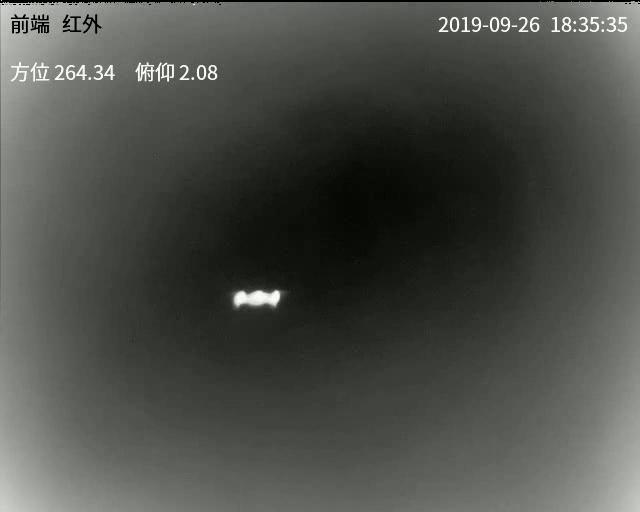DRONE: (232, 288, 282, 308)
